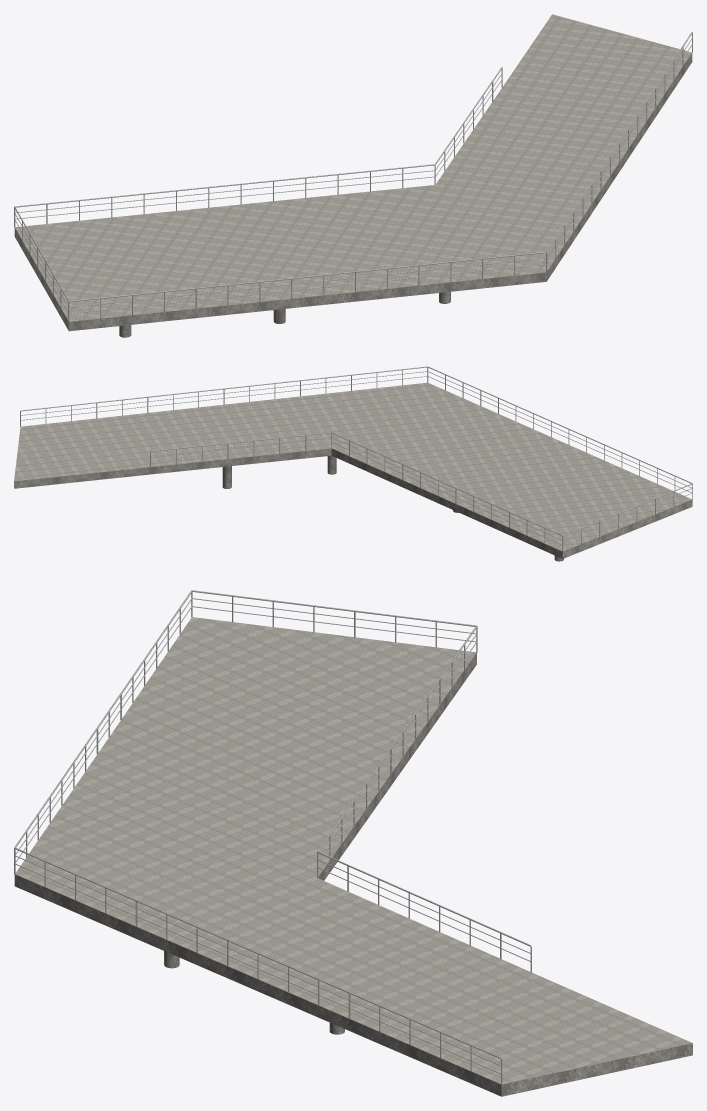
3 views of the same model, one above another, from view 1: azimuth 30°, elevation 25°; view 2: azimuth 150°, elevation 25°; view 3: azimuth 270°, elevation 25° (orthographic). The views are drawn at different scales.
Parts seen in each view (by area): view 1: Landing wearing course, Waterfront handrails, Exposed deck edge; view 2: Landing wearing course, Waterfront handrails, Exposed deck edge, Deck soffit and piles; view 3: Landing wearing course, Waterfront handrails, Exposed deck edge.
Boxes of the visible parts, <box> form: Landing wearing course: <box>15,14,691,321</box>; Waterfront handrails: <box>14,31,692,321</box>; Exposed deck edge: <box>14,53,692,331</box>; Landing wearing course: <box>14,382,691,551</box>; Waterfront handrails: <box>20,366,692,551</box>; Exposed deck edge: <box>14,448,692,558</box>; Deck soffit and piles: <box>222,455,563,561</box>; Landing wearing course: <box>15,617,692,1084</box>; Waterfront handrails: <box>14,590,531,1084</box>; Exposed deck edge: <box>14,653,692,1096</box>.
Size of the model in its own units: 41.28 by 3.73 by 25.3.
4 materials, 4 textured.
